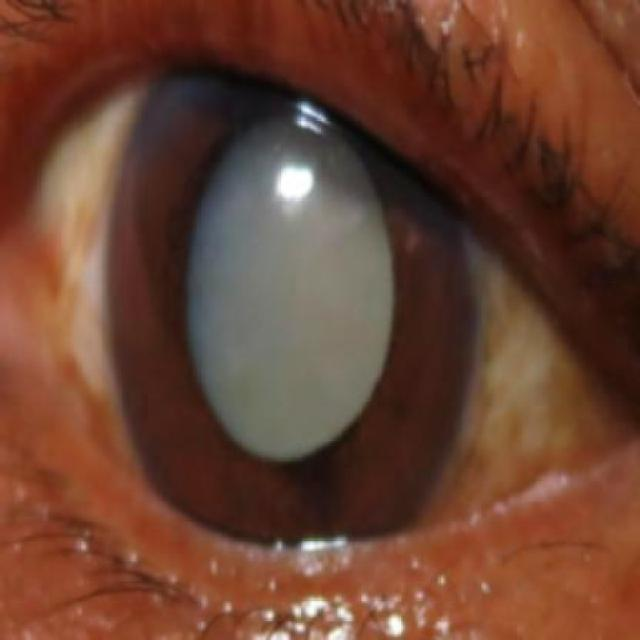Cataract: (113, 39, 476, 552)
